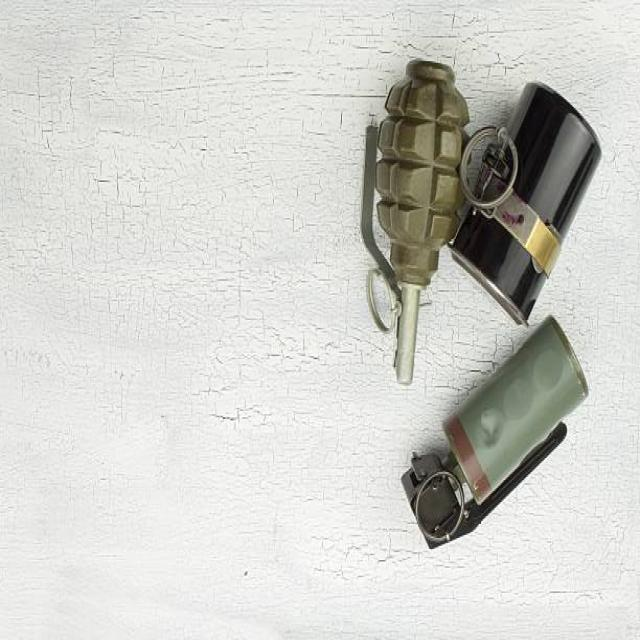grenade: (403, 317, 596, 562), (352, 59, 470, 390)
